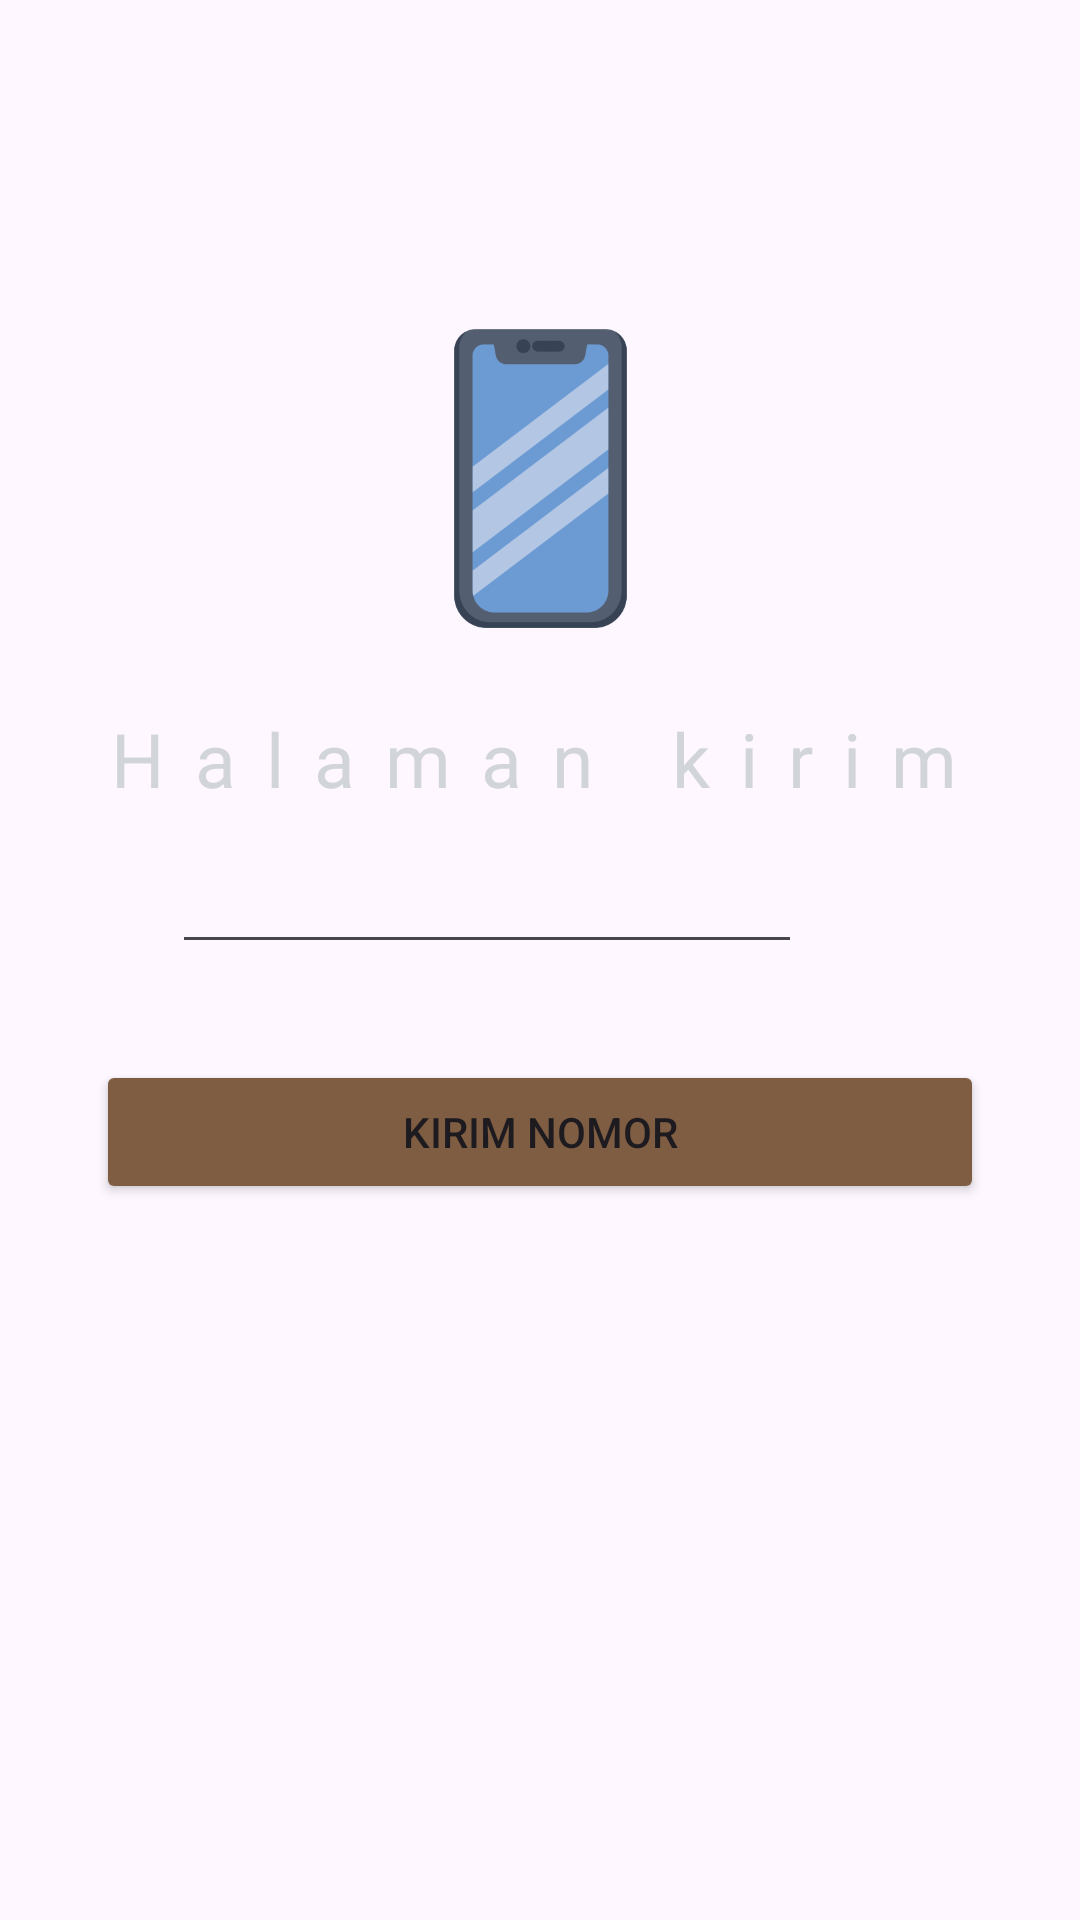

Named icons in this screenshot (1080x1920) and their centers, (x=x, y=y):
iphone: (x=540, y=478)
